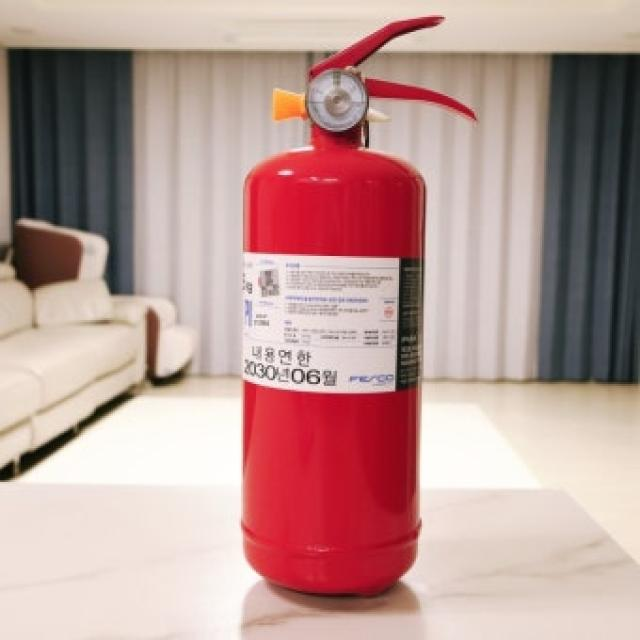pressure gauge: (307, 70, 367, 130)
